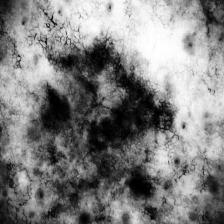Benign Marking or Mole: (29, 30, 176, 204)
